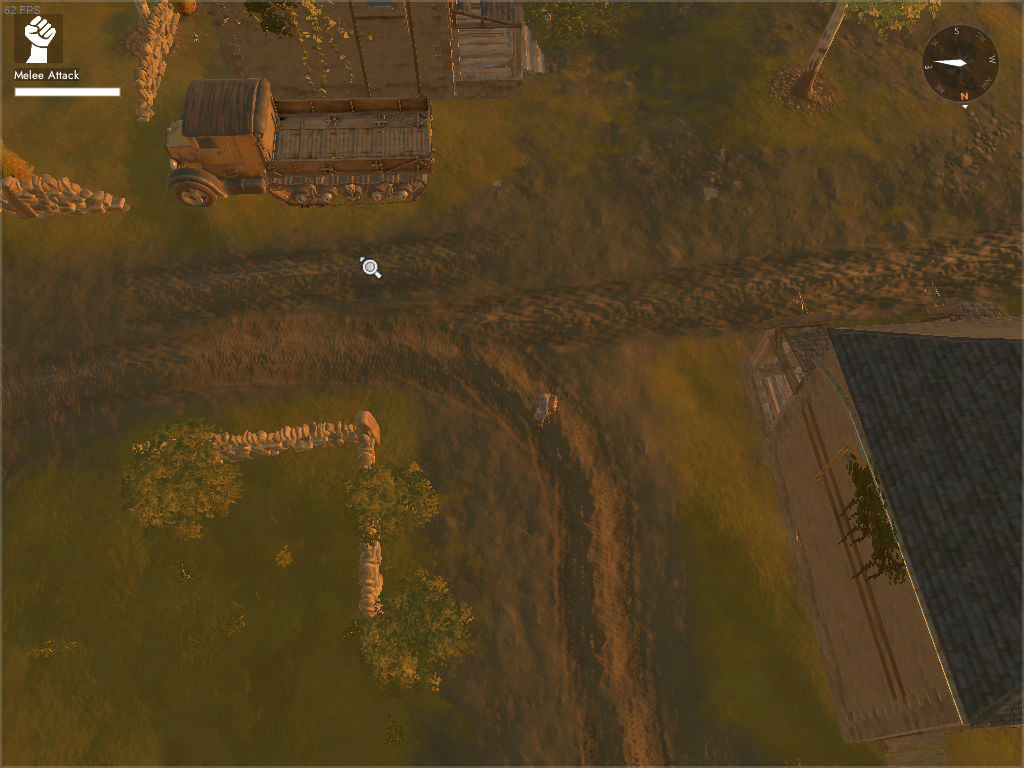flatbed: (158, 74, 438, 215)
player: (527, 388, 560, 433)
